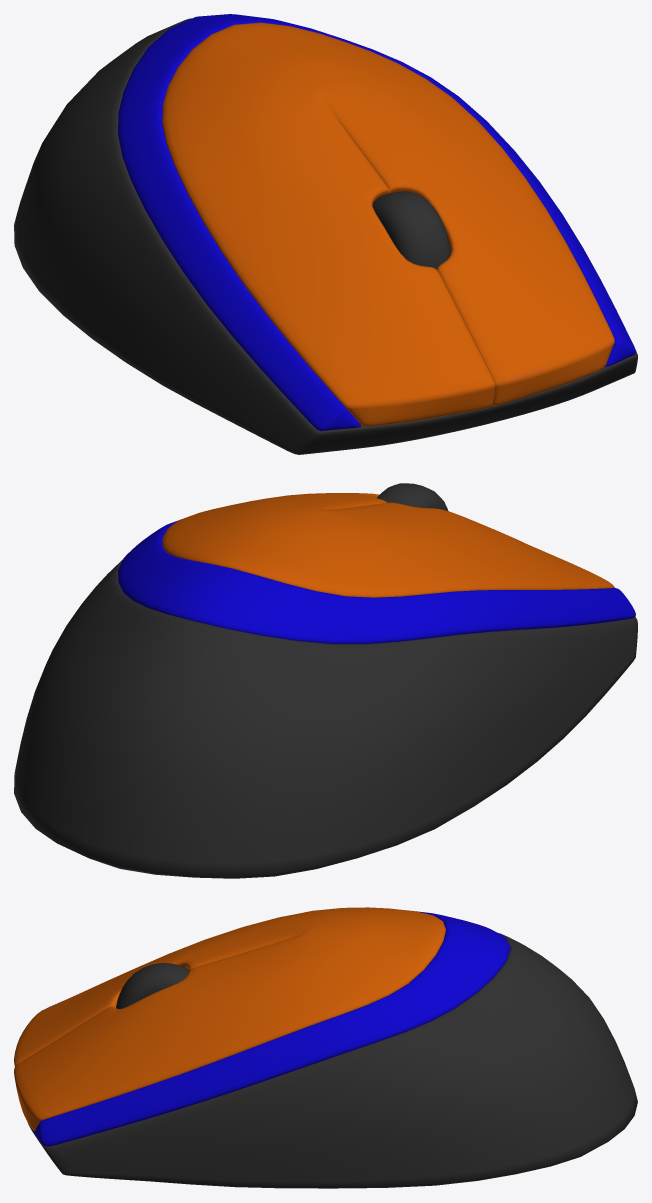
Rendered from device.fbx.
3 views of the same model, one above another, from view 1: azimuth 30°, elevation 25°; view 2: azimuth 150°, elevation 25°; view 3: azimuth 270°, elevation 25° (orthographic). The views are drawn at different scales.
Visible parts, largest first — view 1: 029_4; view 2: 029_4; view 3: 029_4.
Part boxes in pixels (x1=…): 029_4: x1=14, y1=14, x2=637, y2=454; 029_4: x1=14, y1=483, x2=637, y2=878; 029_4: x1=14, y1=907, x2=637, y2=1188.
Size of the model in its own units: 6.5 by 3.35 by 10.35.
1 material, 1 textured.
